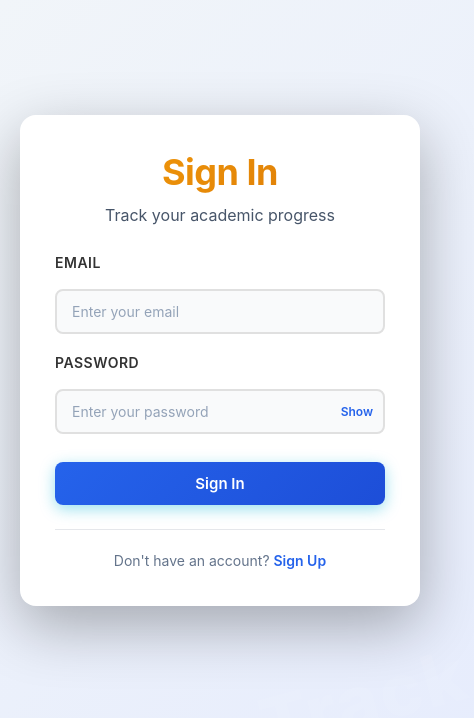
Test: Login Component › should handle network errors gracefully
Type "john@example.com" into the field with placeholder "Enter your email" at (220, 311), box [55,288,385,334]
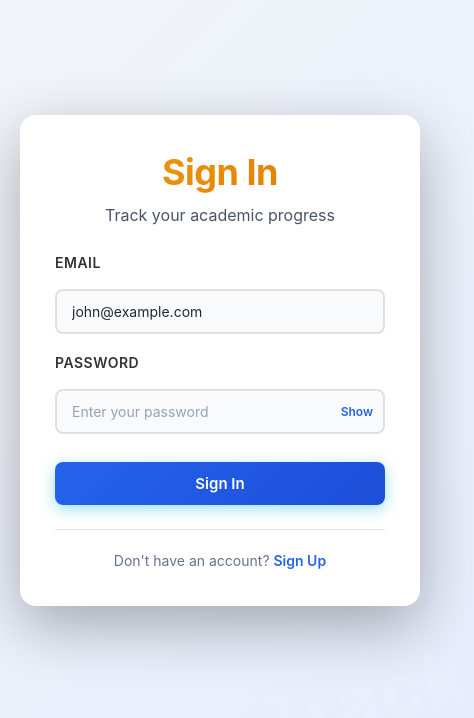
Type "password123" into the password field with placeholder "Enter your password" at (220, 411), box [55,388,385,434]
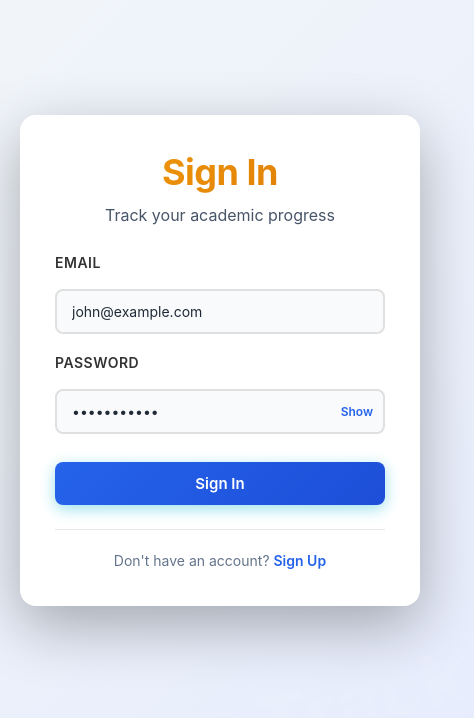
Click the button "Sign In" at (220, 483), box [55,462,385,504]
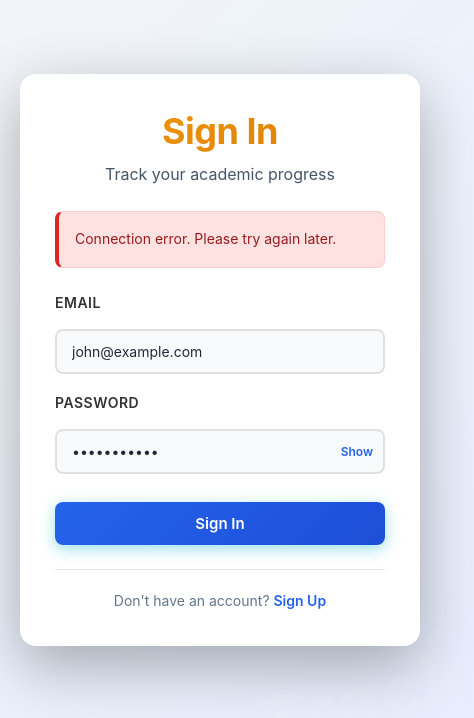
Check: the text "Connection error. Please try again later." is shown, box [55,211,385,268]
